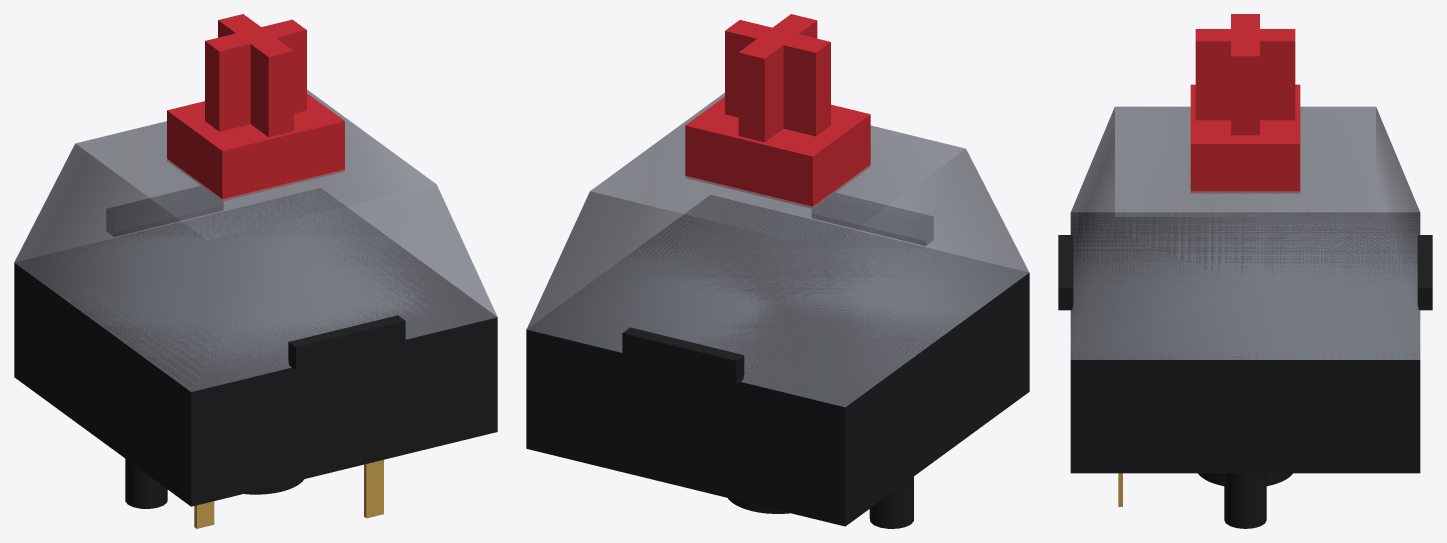
The model's file is key-switch.glb.
3 views of the same model, side by side, from view 1: azimuth 30°, elevation 25°; view 2: azimuth 150°, elevation 25°; view 3: azimuth 270°, elevation 25° (orthographic). The views are drawn at different scales.
Visible parts, largest first — view 1: part0, part1, part2, part3, part4, part11, part10, part6, part9; view 2: part0, part1, part2, part3, part4, part10, part11, part6; view 3: part0, part1, part2, part4, part3, part7, part10, part11, part5.
Boxes of the visible parts, x1,y1,x2,y2 form: part0: (14,188,497,506); part1: (14,89,497,391); part2: (167,93,344,201); part3: (205,19,306,131); part4: (218,14,293,137); part11: (288,315,405,370); part10: (107,186,223,236); part6: (125,459,167,508); part9: (364,460,383,518); part0: (526,195,1029,526); part1: (526,92,1029,406); part2: (685,96,870,208); part3: (725,20,830,136); part4: (738,14,817,142); part10: (622,327,744,384); part11: (812,193,932,245); part6: (869,476,913,528); part0: (1070,212,1420,473); part1: (1070,106,1420,359); part2: (1190,84,1300,193); part4: (1195,29,1295,120); part3: (1231,14,1259,135); part7: (1224,473,1266,528); part10: (1417,235,1432,310); part11: (1058,235,1073,310); part5: (1198,473,1292,486).
Bounding box in the file's own units: 1.4 × 1.95 × 1.5.
